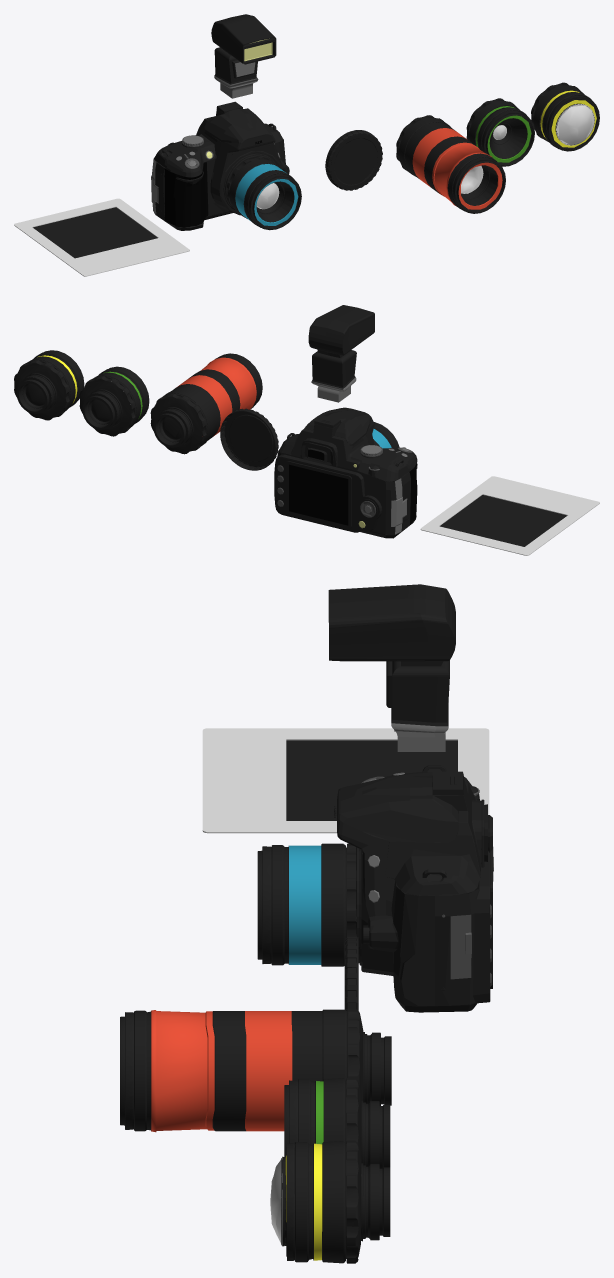
The model's file is Camera And Accesories.fbx.
3 views of the same model, one above another, from view 1: azimuth 30°, elevation 25°; view 2: azimuth 150°, elevation 25°; view 3: azimuth 270°, elevation 25° (orthographic). The views are drawn at different scales.
Visible parts, largest first — view 1: Camera, InstantPhoto, TelephotoLens, NormalLens, Flash, FisheyeLens, MacrophotoLens, CameraLid; view 2: Camera, InstantPhoto, TelephotoLens, Flash, FisheyeLens, MacrophotoLens, CameraLid, NormalLens; view 3: Camera, TelephotoLens, InstantPhoto, Flash, FisheyeLens, NormalLens, MacrophotoLens, CameraLid.
Boxes of the visible parts, x1=… form: Camera: x1=151, y1=101, x2=289, y2=230; InstantPhoto: x1=14, y1=198, x2=189, y2=276; TelephotoLens: x1=396, y1=115, x2=505, y2=213; NormalLens: x1=226, y1=157, x2=301, y2=230; Flash: x1=211, y1=14, x2=276, y2=98; FisheyeLens: x1=531, y1=82, x2=599, y2=151; MacrophotoLens: x1=466, y1=98, x2=534, y2=166; CameraLid: x1=325, y1=130, x2=382, y2=190; Camera: x1=274, y1=407, x2=417, y2=538; InstantPhoto: x1=420, y1=476, x2=599, y2=555; TelephotoLens: x1=150, y1=353, x2=262, y2=454; Flash: x1=308, y1=305, x2=374, y2=402; FisheyeLens: x1=14, y1=350, x2=84, y2=420; MacrophotoLens: x1=79, y1=366, x2=149, y2=436; CameraLid: x1=220, y1=408, x2=278, y2=470; NormalLens: x1=372, y1=422, x2=399, y2=448; Camera: x1=334, y1=765, x2=493, y2=1012; TelephotoLens: x1=120, y1=1009, x2=391, y2=1132; InstantPhoto: x1=202, y1=728, x2=489, y2=833; Flash: x1=328, y1=584, x2=455, y2=751; FisheyeLens: x1=270, y1=1140, x2=390, y2=1263; NormalLens: x1=257, y1=843, x2=356, y2=966; MacrophotoLens: x1=284, y1=1078, x2=390, y2=1168; CameraLid: x1=344, y1=937, x2=358, y2=1012.
Size of the model in its own units: 14140 by 4712 by 4258.
